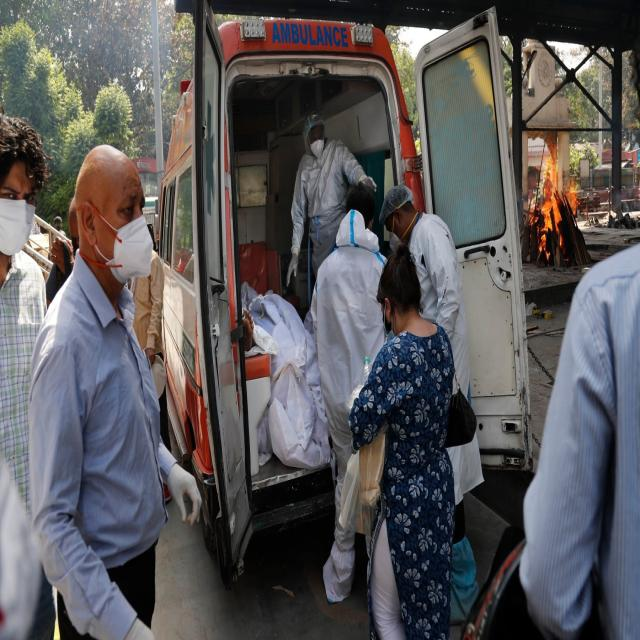emergency: (160, 2, 531, 584)
